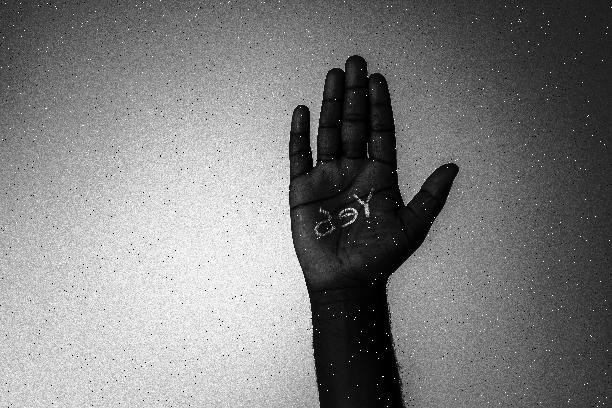Paper: (285, 52, 460, 293)
